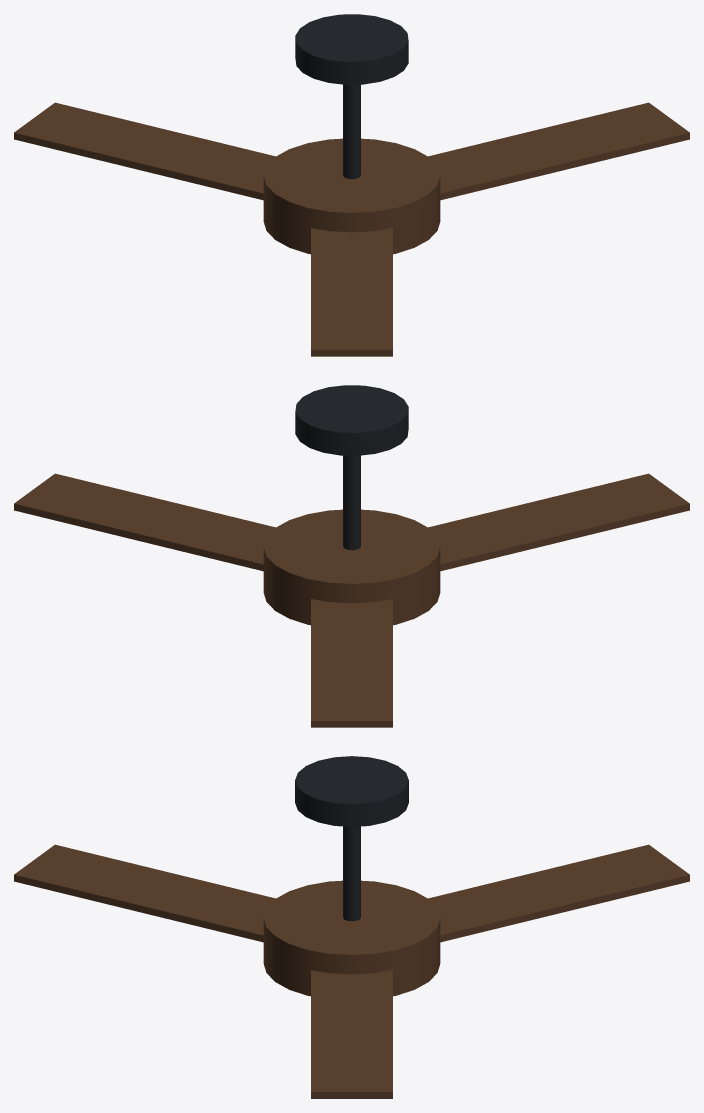
Rendered from ceiling_fan.glb.
The picture shows the model from 3 angles, top to bottom: view 1: azimuth 30°, elevation 25°; view 2: azimuth 150°, elevation 25°; view 3: azimuth 270°, elevation 25°; orthographic projection.
Bounding box in the file's own units: 0.9263 × 0.3375 × 1.07.
